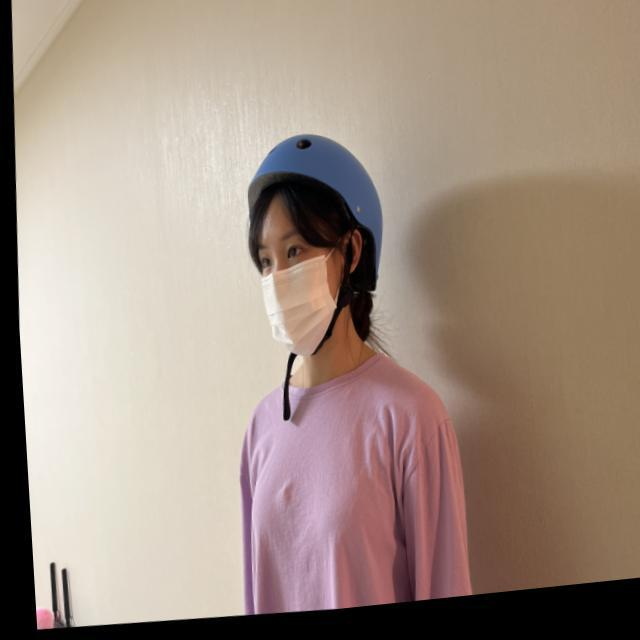Helmet: (242, 130, 392, 360)
